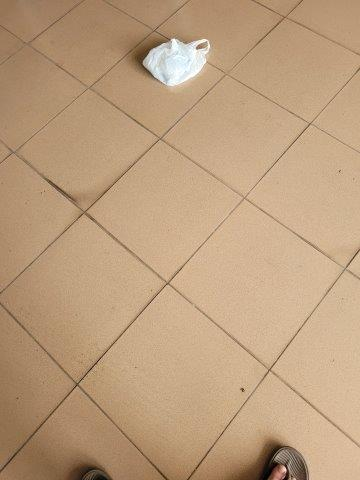plastik: (140, 38, 211, 85)
